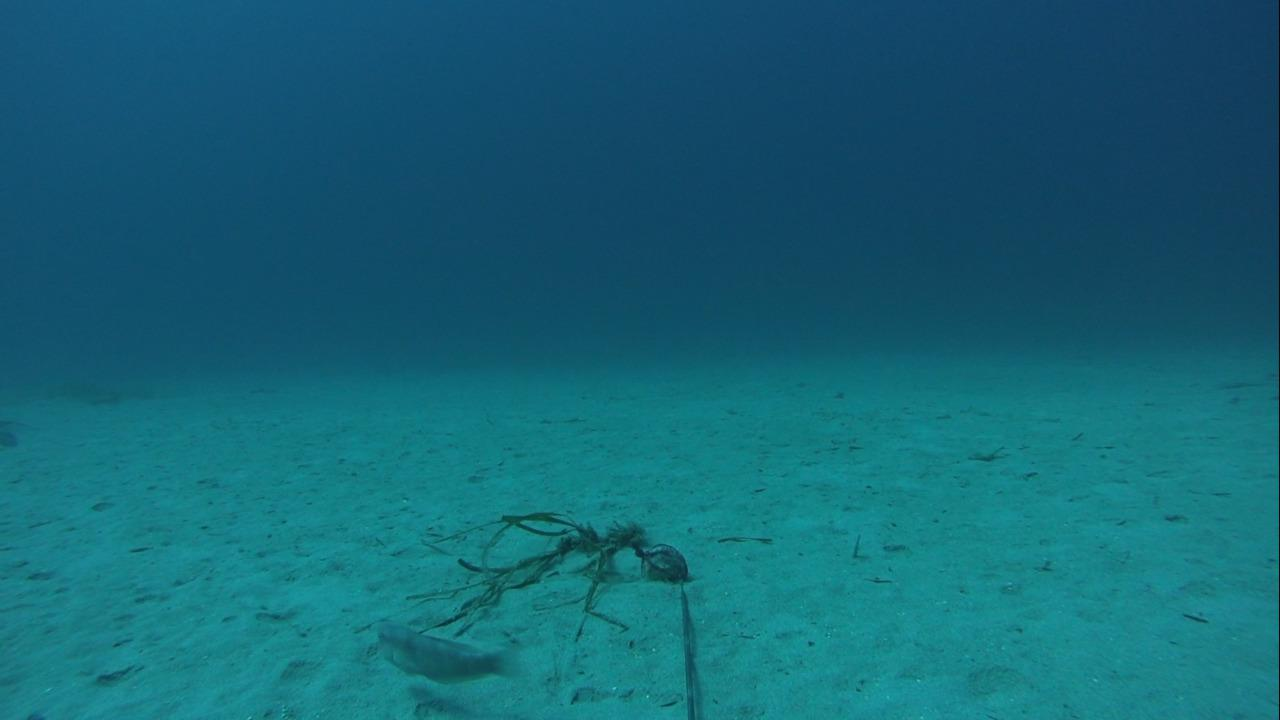raor: (369, 614, 521, 689)
